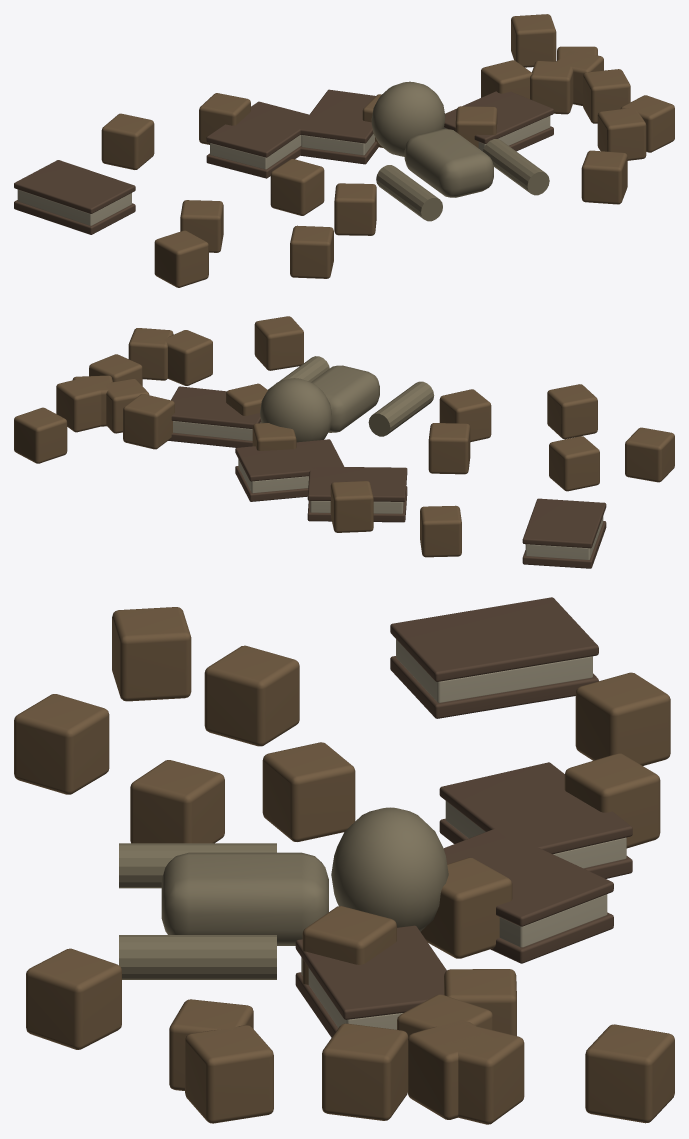
File: nursery_litter.glb
The picture shows the model from 3 angles, top to bottom: view 1: azimuth 30°, elevation 25°; view 2: azimuth 150°, elevation 25°; view 3: azimuth 270°, elevation 25°; orthographic projection. The views are drawn at different scales.
Parts seen in each view (by area): view 1: nursery_litter; view 2: nursery_litter; view 3: nursery_litter.
Boxes of the visible parts, x1=… form: nursery_litter: x1=14, y1=14, x2=674, y2=287; nursery_litter: x1=14, y1=316, x2=674, y2=568; nursery_litter: x1=14, y1=597, x2=674, y2=1124.
Size of the model in its own units: 2.55 by 0.3175 by 1.46.
